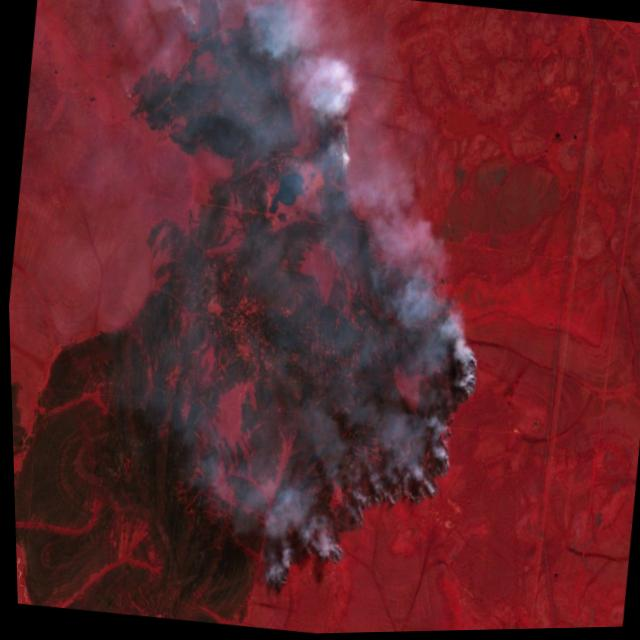fire: (241, 288, 493, 628), (299, 83, 373, 194)
